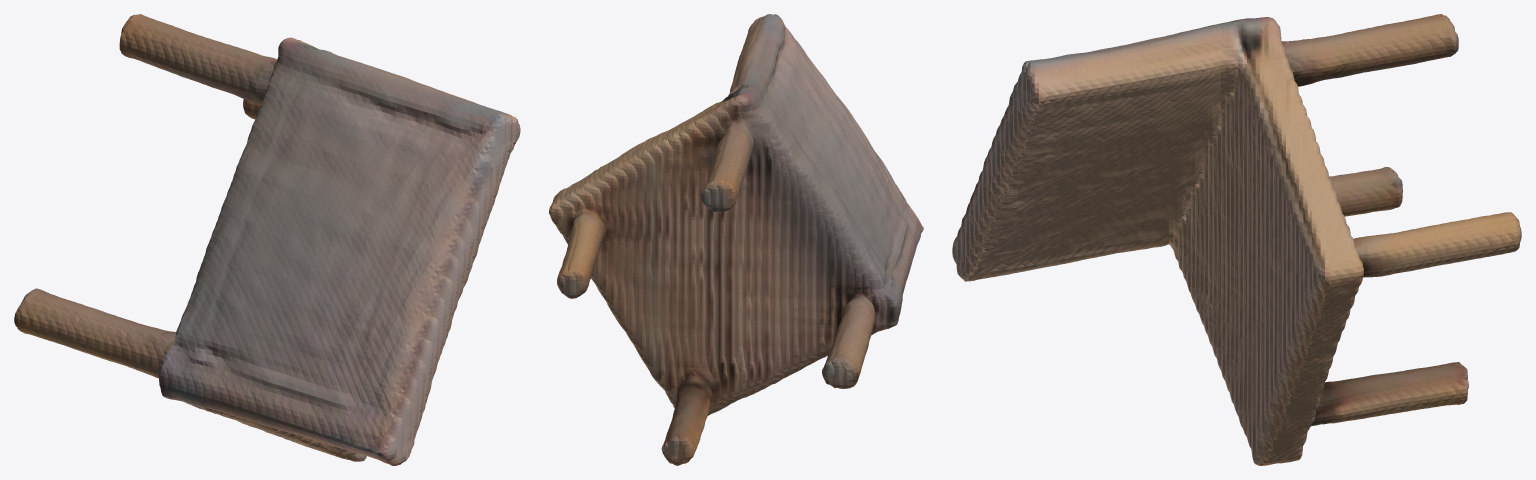
File: chair.glb
3 renders of one model, left to right at view 1: azimuth 30°, elevation 25°; view 2: azimuth 150°, elevation 25°; view 3: azimuth 270°, elevation 25°, orthographic. The views are drawn at different scales.
Visible parts, largest first — view 1: world; view 2: world; view 3: world.
Part boxes in pixels (x1,y1,x2,y2): world: [14, 14, 520, 465]; world: [549, 14, 923, 465]; world: [952, 14, 1521, 465].
Bounding box in the file's own units: 0.7477 × 0.7237 × 0.8963.
